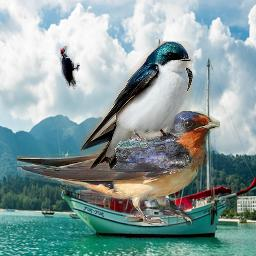Swallow: (17, 111, 220, 226), (80, 41, 193, 169)
Woodpecker: (60, 46, 80, 89)
